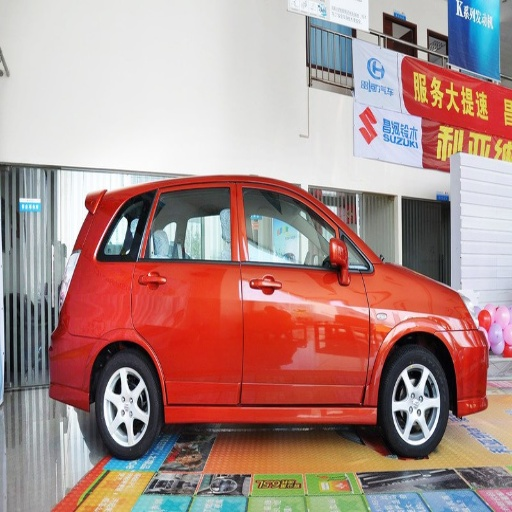back_bumper: (58, 344, 98, 401)
